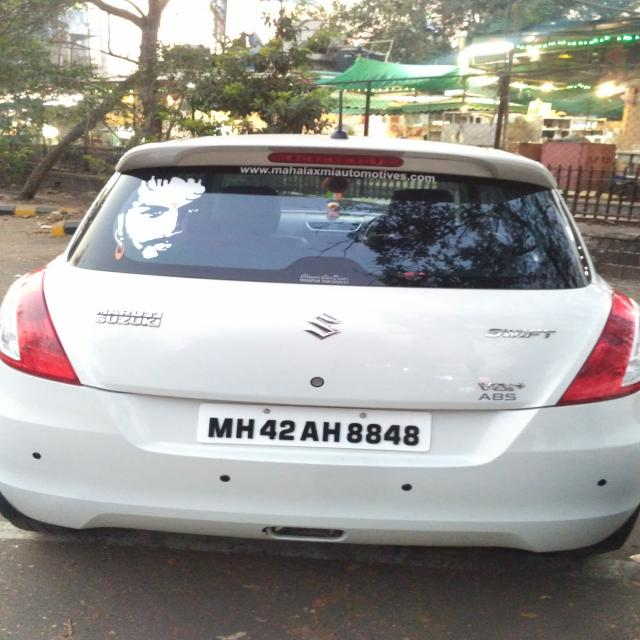Number-Plate: (203, 405, 434, 451)
